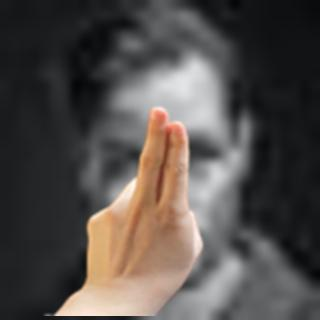DHAVE: (73, 101, 210, 300)
